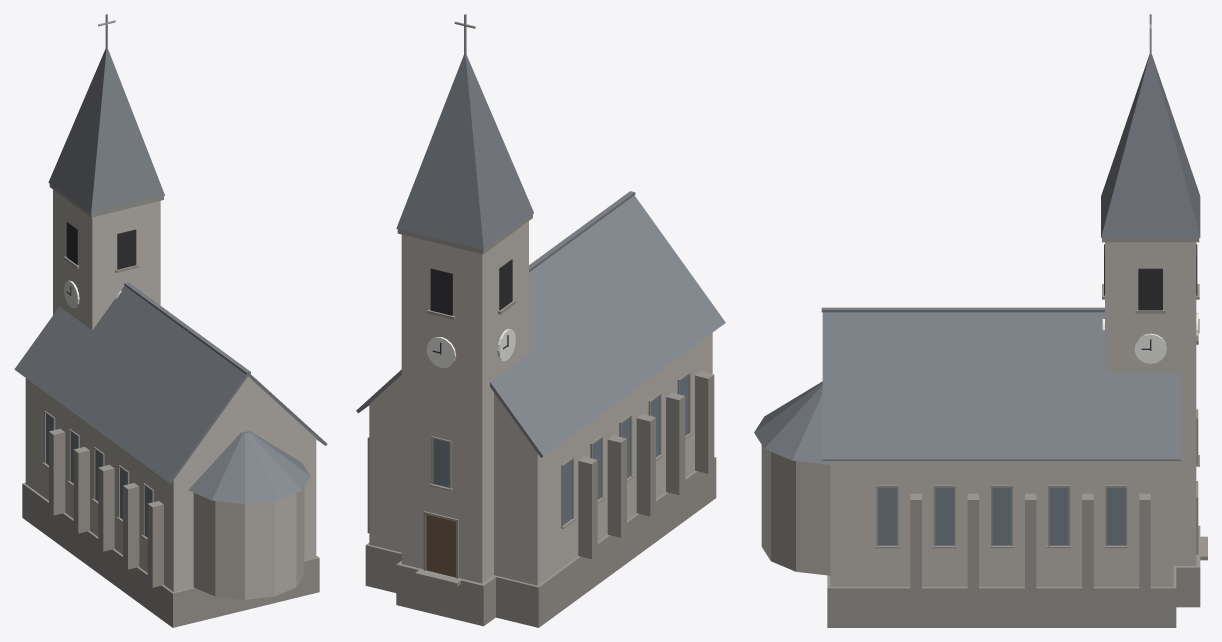
Rendered from church.glb.
The picture shows the model from 3 angles, left to right: view 1: azimuth 30°, elevation 25°; view 2: azimuth 150°, elevation 25°; view 3: azimuth 270°, elevation 25°; orthographic projection. The views are drawn at different scales.
Parts seen in each view (by area): view 1: church; view 2: church; view 3: church.
Boxes of the visible parts, box(x1,y1,x2,y2) form: church: box(14, 14, 327, 627); church: box(356, 14, 725, 627); church: box(754, 14, 1207, 627).
Bounding box in the file's own units: 11.6 × 33.1 × 23.8.
